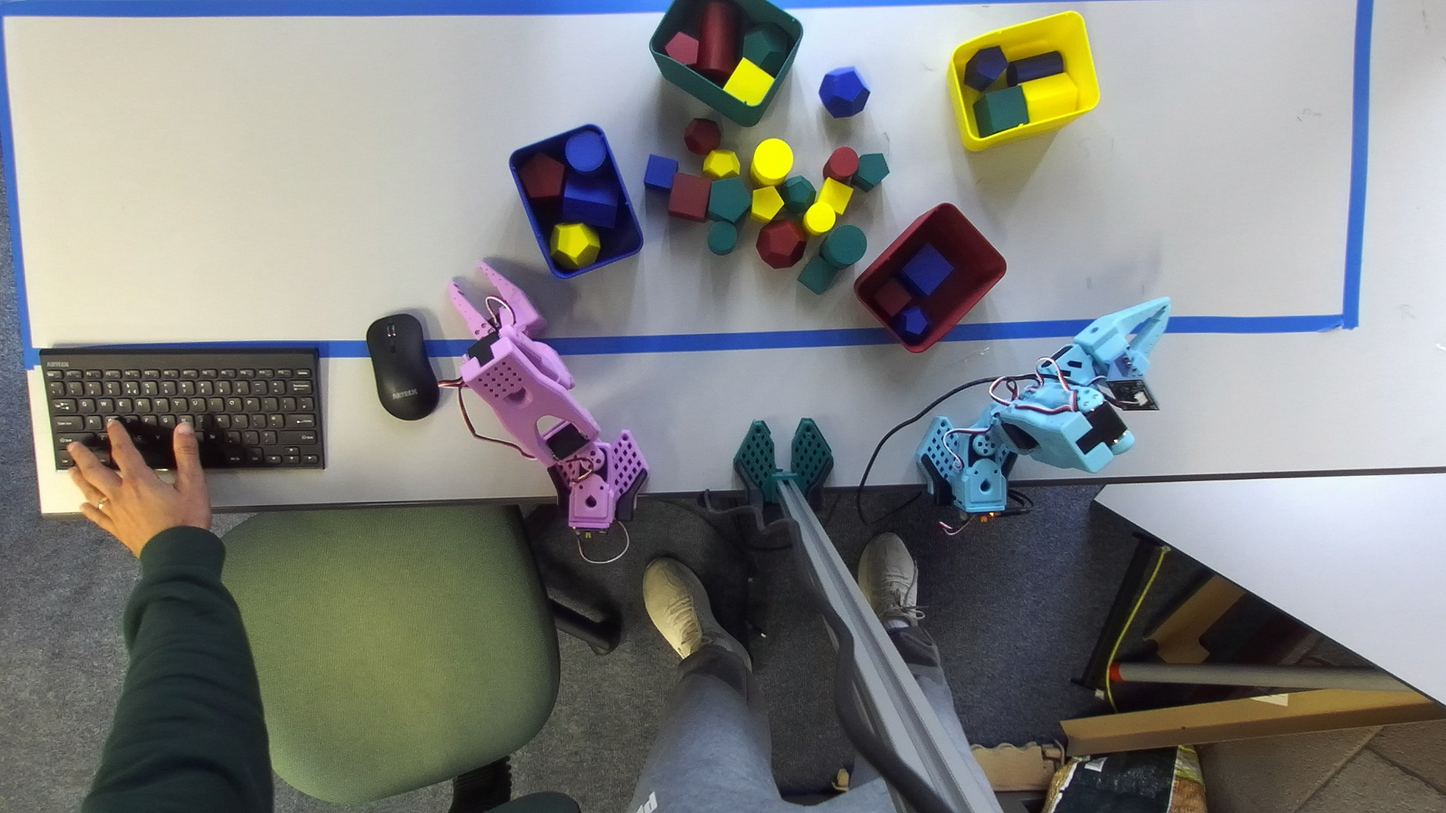bin: (854, 202, 1005, 352), (947, 11, 1099, 150), (508, 125, 642, 279), (650, 0, 803, 126)
cube: (897, 245, 953, 295), (974, 87, 1029, 136), (723, 57, 773, 105), (668, 173, 711, 221), (797, 254, 837, 294), (816, 178, 853, 215), (875, 280, 911, 317), (643, 154, 677, 190)
cylinder: (696, 0, 740, 84), (819, 224, 867, 268), (750, 139, 793, 185), (1007, 51, 1064, 85), (565, 132, 606, 172), (822, 146, 859, 183), (804, 202, 836, 234), (707, 221, 737, 254)
dodecahedron: (819, 67, 870, 117), (755, 220, 806, 268), (742, 25, 789, 75), (550, 224, 600, 269), (777, 175, 816, 214), (683, 118, 721, 157), (703, 150, 740, 178), (898, 306, 929, 336)
gripper: (1072, 296, 1170, 378), (447, 260, 547, 340)
hexagonal: (1020, 73, 1078, 122), (561, 180, 618, 227), (707, 178, 751, 223), (963, 46, 1007, 91), (519, 154, 563, 198), (853, 153, 889, 191), (665, 32, 699, 64), (751, 186, 782, 221)
